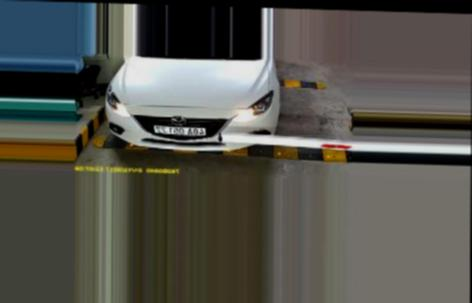License_Plate: (153, 124, 207, 140)
